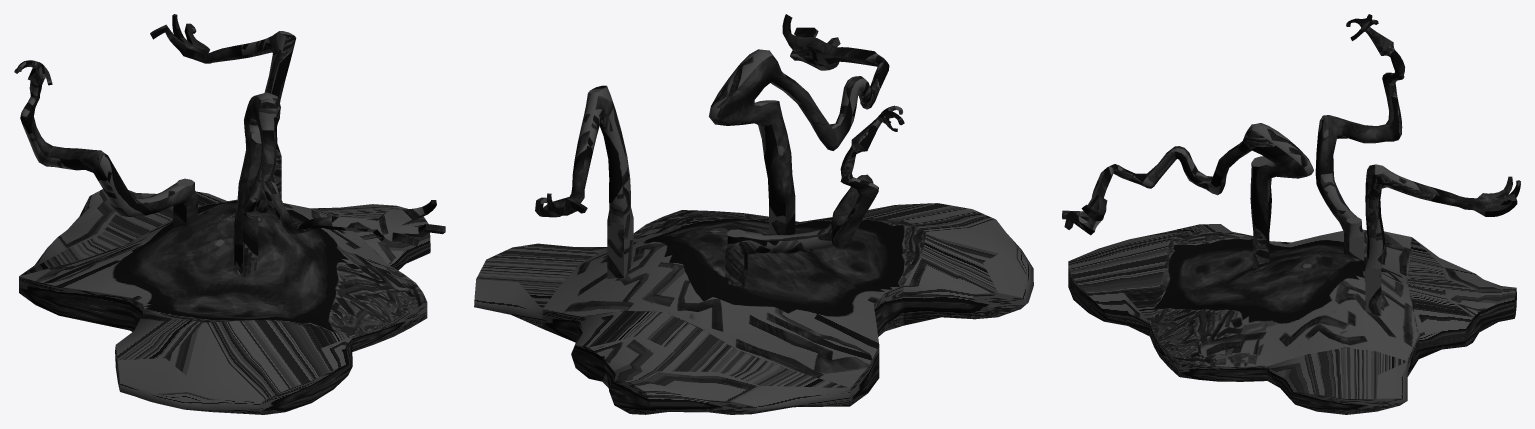
Rendered from Trap.fbx.
3 renders of one model, left to right at view 1: azimuth 30°, elevation 25°; view 2: azimuth 150°, elevation 25°; view 3: azimuth 270°, elevation 25°, orthographic. The views are drawn at different scales.
Parts seen in each view (by area): view 1: Trap_Bloob, Trap_Arm002, Trap_Arm003, Trap_Arm001; view 2: Trap_Bloob, Trap_Arm002, Trap_Arm001, Trap_Arm003; view 3: Trap_Bloob, Trap_Arm002, Trap_Arm003, Trap_Arm001.
Part boxes in pixels (x1,y1,x2,y2): Trap_Bloob: [19, 189, 430, 414]; Trap_Arm002: [234, 92, 445, 277]; Trap_Arm003: [14, 60, 197, 228]; Trap_Arm001: [150, 14, 296, 199]; Trap_Bloob: [474, 203, 1033, 414]; Trap_Arm002: [708, 14, 889, 234]; Trap_Arm001: [535, 85, 633, 278]; Trap_Arm003: [725, 105, 904, 287]; Trap_Bloob: [1068, 224, 1516, 414]; Trap_Arm002: [1062, 123, 1313, 273]; Trap_Arm003: [1315, 14, 1405, 260]; Trap_Arm001: [1365, 164, 1520, 315].
Size of the model in its own units: 52.1 by 31.87 by 57.43.
